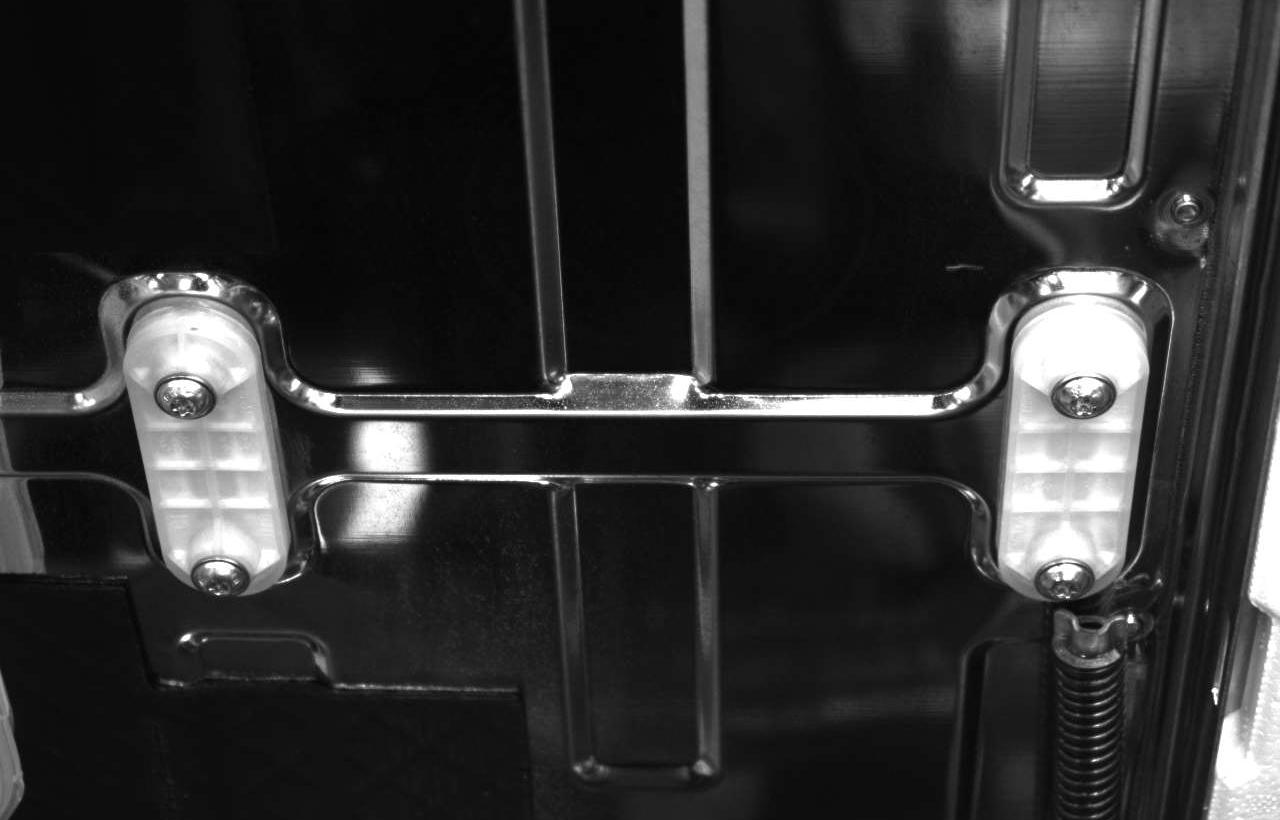vida-ok: (150, 367, 221, 434), (1051, 364, 1119, 431), (1031, 552, 1097, 611), (190, 544, 256, 602)
